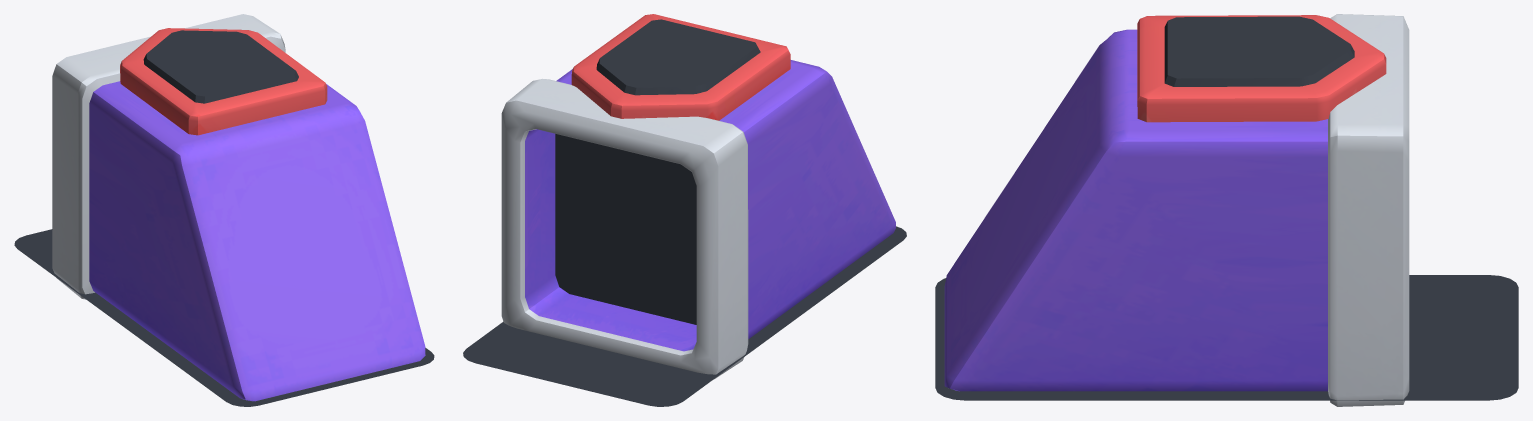
File: Garage.fbx
3 views of the same model, side by side, from view 1: azimuth 30°, elevation 25°; view 2: azimuth 150°, elevation 25°; view 3: azimuth 270°, elevation 25° (orthographic). The views are drawn at different scales.
Visible parts, largest first — view 1: Garage_1, Number_BG, pCube1; view 2: Garage_1, Number_BG, pCube1; view 3: Garage_1, Number_BG, pCube1.
Boxes of the visible parts, x1,y1,x2,y2 form: Garage_1: (52, 14, 425, 401); Number_BG: (120, 28, 327, 135); pCube1: (14, 229, 434, 406); Garage_1: (501, 60, 895, 379); Number_BG: (571, 14, 790, 120); pCube1: (463, 226, 906, 406); Garage_1: (944, 14, 1409, 406); Number_BG: (1137, 15, 1386, 122); pCube1: (935, 275, 1518, 400).
Size of the model in its own units: 202 by 228 by 395.
